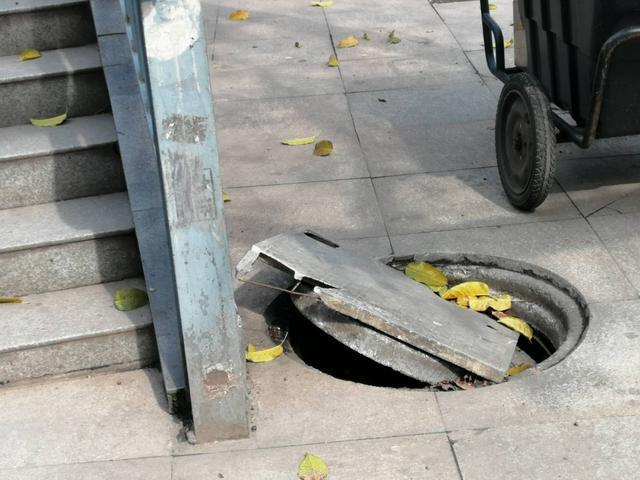wellcover: (236, 203, 639, 400)
